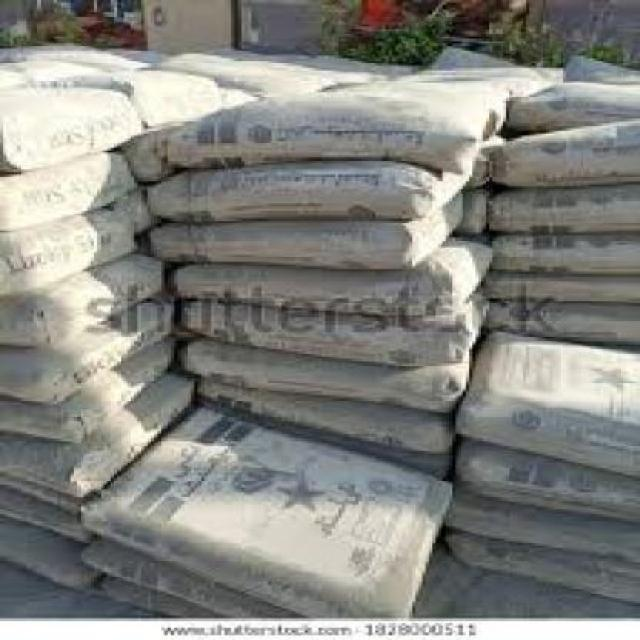gunny_bag: (80, 399, 462, 616), (174, 229, 503, 322), (150, 181, 471, 275), (165, 86, 512, 170), (0, 367, 199, 499), (143, 149, 485, 225), (185, 286, 485, 368), (465, 344, 640, 475), (181, 339, 474, 411), (0, 343, 181, 456), (71, 538, 326, 616), (190, 375, 449, 449), (2, 301, 183, 391), (2, 191, 145, 301), (0, 254, 168, 344), (2, 82, 152, 176), (456, 527, 640, 601), (447, 496, 640, 564), (453, 451, 640, 519), (143, 48, 407, 95), (0, 152, 138, 228), (494, 116, 640, 183), (125, 66, 264, 129), (85, 580, 270, 624), (514, 74, 640, 137), (2, 464, 105, 538), (478, 228, 640, 273), (485, 183, 640, 229), (0, 516, 92, 593), (0, 40, 185, 73), (489, 301, 640, 341), (357, 66, 565, 95), (489, 268, 640, 307), (7, 53, 121, 89), (121, 123, 176, 184), (458, 194, 496, 236)
